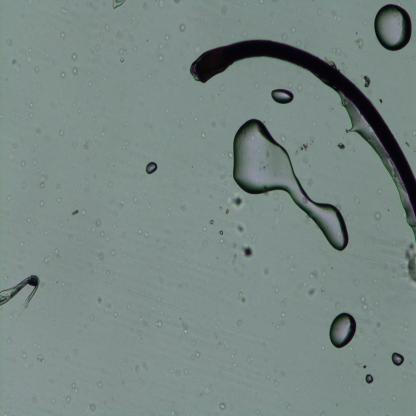Air bubble: (231, 113, 350, 249), (372, 2, 416, 52), (328, 310, 358, 348), (271, 88, 294, 105), (389, 349, 405, 366), (144, 159, 158, 175), (365, 374, 373, 385)
Background material: (399, 234, 416, 286), (226, 190, 247, 210), (295, 135, 315, 153), (292, 278, 307, 299), (240, 244, 257, 260), (358, 71, 372, 89), (356, 290, 368, 311), (230, 250, 241, 271), (234, 290, 248, 306), (354, 356, 369, 370), (178, 318, 190, 335), (216, 2, 229, 16), (328, 8, 342, 21), (115, 27, 129, 38), (232, 223, 246, 234), (111, 0, 126, 10), (275, 201, 286, 214), (43, 251, 53, 265), (399, 320, 409, 334), (10, 58, 22, 69), (329, 44, 342, 54), (39, 280, 48, 294), (178, 201, 188, 213), (132, 364, 144, 374), (311, 268, 319, 282), (219, 340, 230, 350), (38, 172, 48, 183), (278, 131, 288, 142), (371, 209, 381, 220), (154, 0, 165, 10), (240, 27, 249, 39), (95, 295, 103, 308), (292, 38, 302, 48), (35, 353, 45, 363), (284, 400, 293, 411), (355, 39, 364, 50), (218, 399, 226, 411), (97, 249, 105, 261), (179, 21, 188, 31), (271, 285, 281, 294), (353, 278, 362, 288), (116, 200, 125, 210), (38, 196, 46, 207), (43, 132, 51, 143), (279, 33, 288, 42), (81, 141, 90, 150), (25, 100, 35, 108), (70, 65, 78, 75), (71, 52, 79, 62), (218, 82, 226, 92), (154, 320, 164, 328), (168, 408, 178, 416), (198, 130, 206, 140), (87, 404, 97, 412), (308, 287, 316, 297), (278, 300, 288, 308), (94, 217, 101, 228), (264, 268, 272, 277), (287, 26, 296, 34), (70, 209, 79, 217), (337, 140, 345, 149), (122, 140, 129, 150), (20, 178, 27, 188), (141, 0, 148, 10), (99, 230, 106, 240), (58, 130, 66, 138), (94, 380, 102, 388), (251, 80, 259, 88), (58, 5, 66, 13), (30, 158, 38, 166), (33, 64, 40, 73), (307, 84, 314, 93), (84, 172, 89, 184), (246, 355, 254, 362), (103, 22, 110, 30), (236, 319, 244, 326), (94, 45, 102, 52), (314, 8, 322, 15), (353, 196, 360, 204), (90, 268, 98, 275), (19, 160, 26, 168), (5, 337, 13, 344), (56, 194, 63, 202), (178, 121, 184, 130), (59, 219, 64, 229), (195, 44, 200, 54), (211, 119, 216, 129), (132, 45, 139, 52), (306, 179, 313, 186), (38, 182, 45, 189), (224, 207, 230, 215), (26, 55, 32, 63), (228, 150, 234, 158), (145, 201, 151, 209), (102, 306, 108, 314), (410, 128, 416, 136), (289, 267, 297, 273), (158, 54, 164, 62), (6, 196, 12, 204), (404, 140, 410, 148), (71, 349, 80, 354), (183, 366, 188, 375), (92, 115, 97, 124), (174, 0, 183, 5), (32, 396, 37, 405), (321, 285, 326, 294), (144, 231, 150, 238), (6, 38, 12, 45), (158, 43, 164, 50), (175, 369, 181, 376), (336, 303, 342, 310), (76, 240, 83, 246), (272, 382, 279, 388), (108, 181, 113, 189), (61, 71, 66, 79), (88, 80, 93, 88), (113, 310, 118, 318), (209, 218, 214, 226), (203, 241, 208, 249), (165, 33, 170, 41), (280, 312, 286, 318), (65, 396, 71, 402), (372, 300, 378, 306), (61, 31, 65, 40), (376, 319, 380, 328), (119, 56, 124, 63), (93, 134, 98, 141), (91, 226, 96, 233), (204, 387, 209, 394), (26, 47, 33, 52), (105, 235, 110, 242), (258, 0, 265, 5), (202, 225, 207, 232), (297, 84, 302, 91), (27, 217, 32, 224), (220, 238, 224, 246), (210, 401, 214, 409), (126, 302, 130, 310), (44, 229, 48, 237), (392, 394, 396, 402), (106, 268, 110, 276), (82, 208, 86, 216), (81, 80, 86, 86), (119, 49, 124, 55), (132, 196, 137, 202), (232, 362, 237, 368), (218, 205, 223, 211), (20, 241, 25, 247), (52, 249, 58, 254), (22, 353, 27, 359), (57, 184, 62, 189), (219, 230, 224, 235), (321, 411, 326, 416), (377, 189, 382, 194), (196, 352, 200, 358), (139, 317, 143, 323), (112, 249, 115, 257), (321, 344, 325, 350), (30, 113, 34, 119), (379, 98, 383, 104), (52, 398, 56, 404), (72, 382, 76, 388), (74, 388, 78, 393), (166, 108, 170, 113), (276, 324, 280, 329), (296, 386, 300, 391), (101, 131, 105, 136), (170, 368, 174, 373), (190, 356, 194, 361), (124, 121, 128, 126), (32, 342, 36, 347), (288, 82, 292, 87), (136, 64, 140, 68), (267, 375, 271, 379), (3, 412, 7, 416), (79, 108, 82, 113), (139, 229, 142, 234), (231, 354, 234, 359), (123, 362, 126, 366), (28, 232, 30, 236), (256, 412, 259, 414)
Cellulose filter fibre: (0, 274, 42, 314)
Microfibre: (188, 35, 416, 216)
